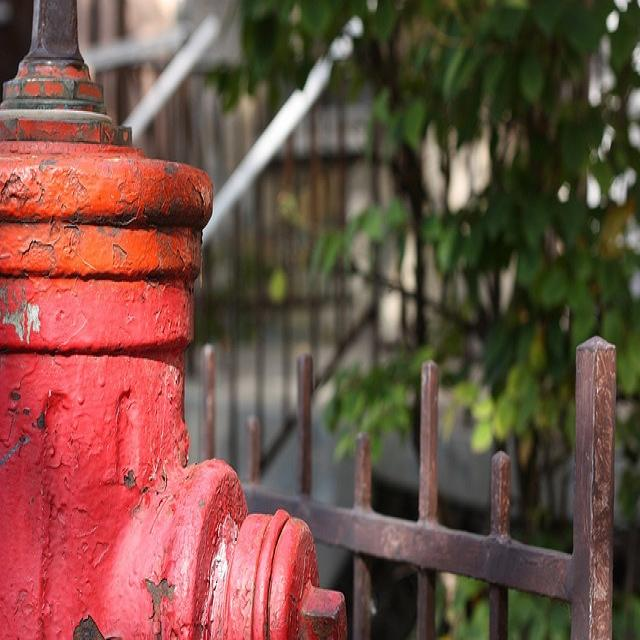fire_hydrant: (0, 0, 350, 639)
